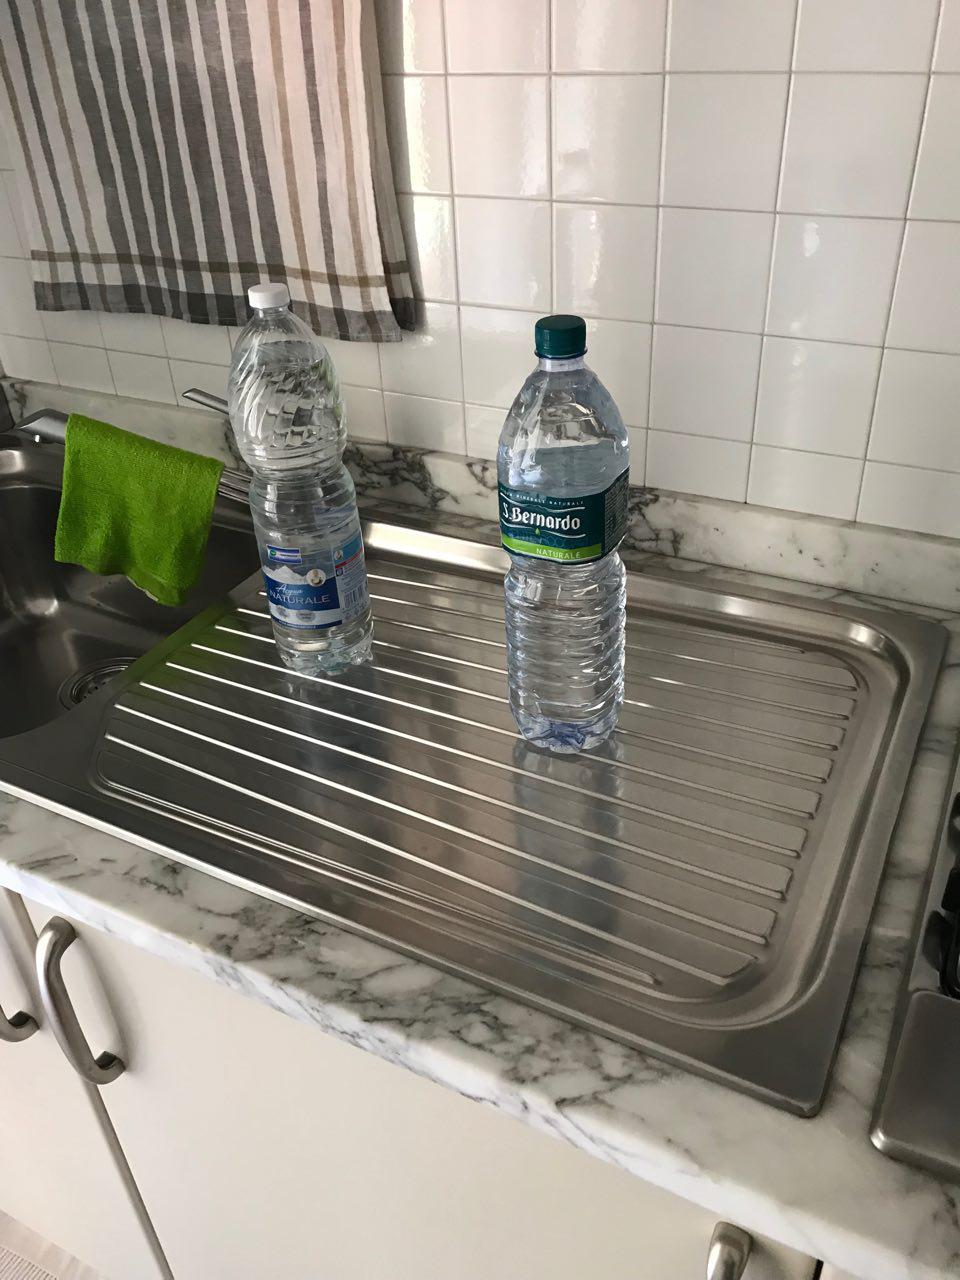san_bernardo: (496, 314, 632, 756)
